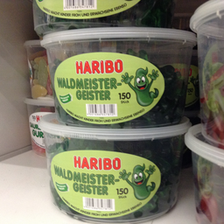candy: (39, 27, 197, 130), (39, 120, 192, 224)
